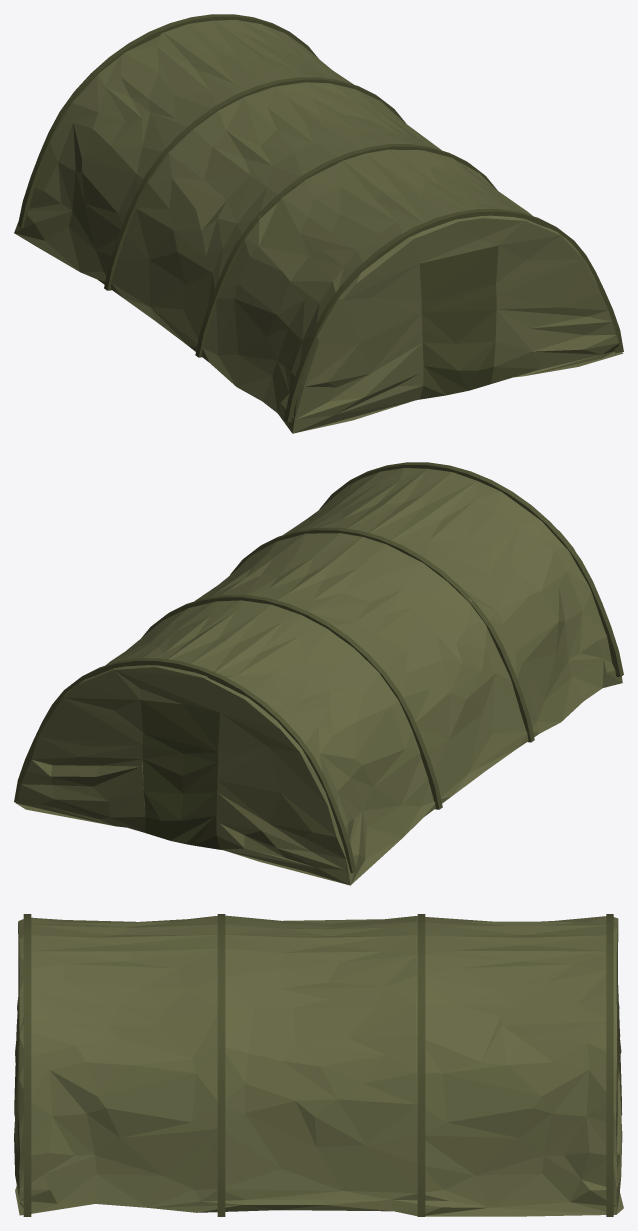
The model's file is model_military_tent.fbx.
3 views of the same model, one above another, from view 1: azimuth 30°, elevation 25°; view 2: azimuth 150°, elevation 25°; view 3: azimuth 270°, elevation 25° (orthographic). The views are drawn at different scales.
Parts seen in each view (by area): view 1: model_military_tent; view 2: model_military_tent; view 3: model_military_tent.
Boxes of the visible parts, left/top/right/bottom form: model_military_tent: left=14, top=14, right=623, bottom=433; model_military_tent: left=14, top=462, right=623, bottom=885; model_military_tent: left=14, top=914, right=623, bottom=1216.
Bounding box in the file's own units: 749 × 377 × 1071.
1 material, 1 textured.
